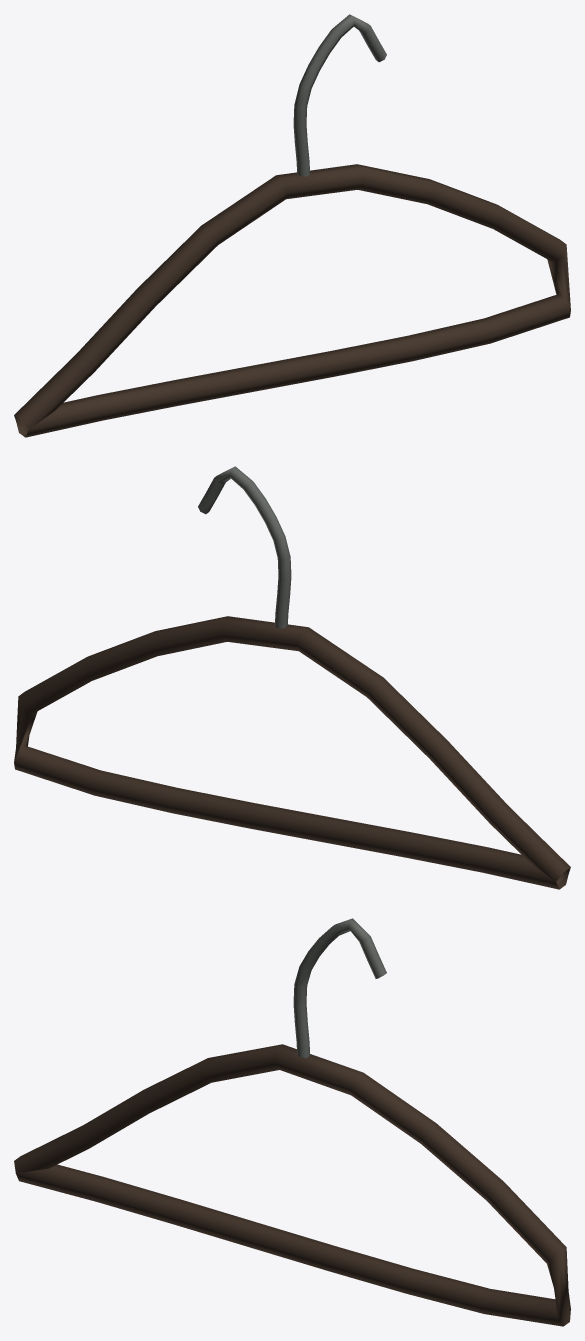
Rendered from prop-empty-hanger-v01.glb.
3 renders of one model, top to bottom at view 1: azimuth 30°, elevation 25°; view 2: azimuth 150°, elevation 25°; view 3: azimuth 330°, elevation 25°, orthographic.
Parts seen in each view (by area): view 1: empty-hanger; view 2: empty-hanger; view 3: empty-hanger.
Part boxes in pixels (left/top/right/bottom): empty-hanger: left=14, top=14, right=570, bottom=437; empty-hanger: left=14, top=466, right=570, bottom=889; empty-hanger: left=14, top=918, right=570, bottom=1326.
Size of the model in its own units: 0.3901 by 0.2435 by 0.016.
